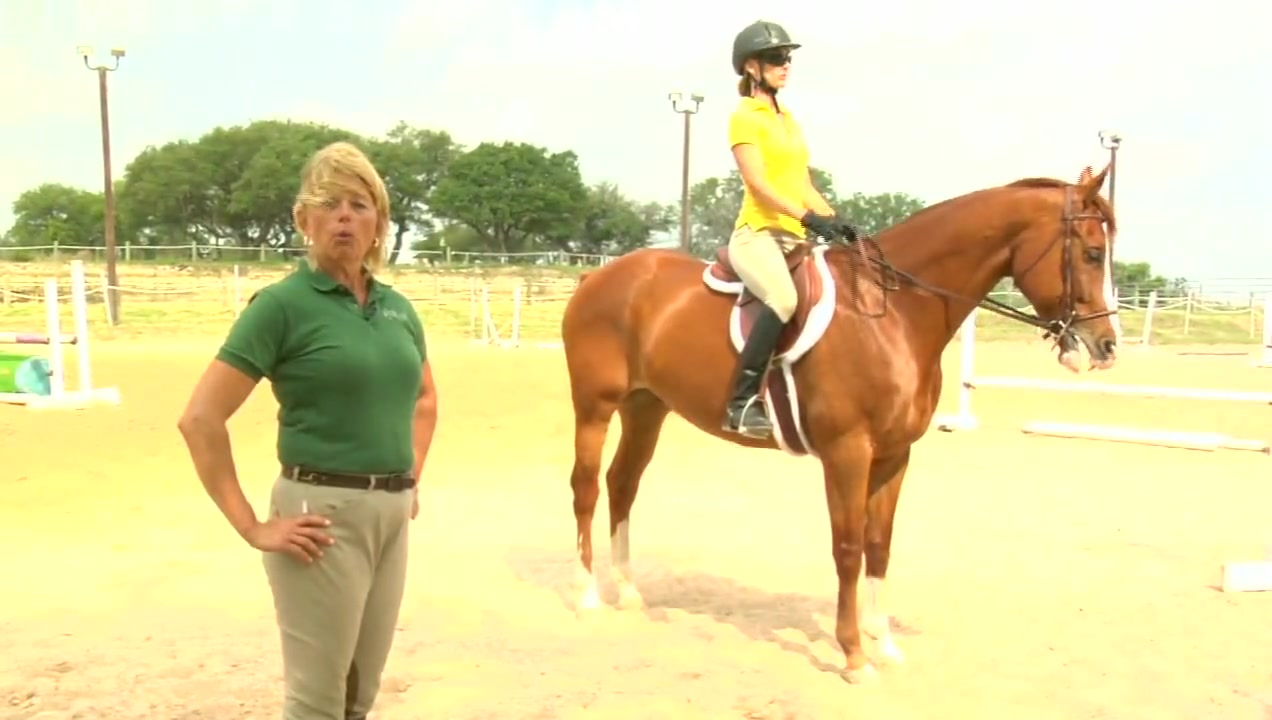horse: (562, 163, 1121, 686)
